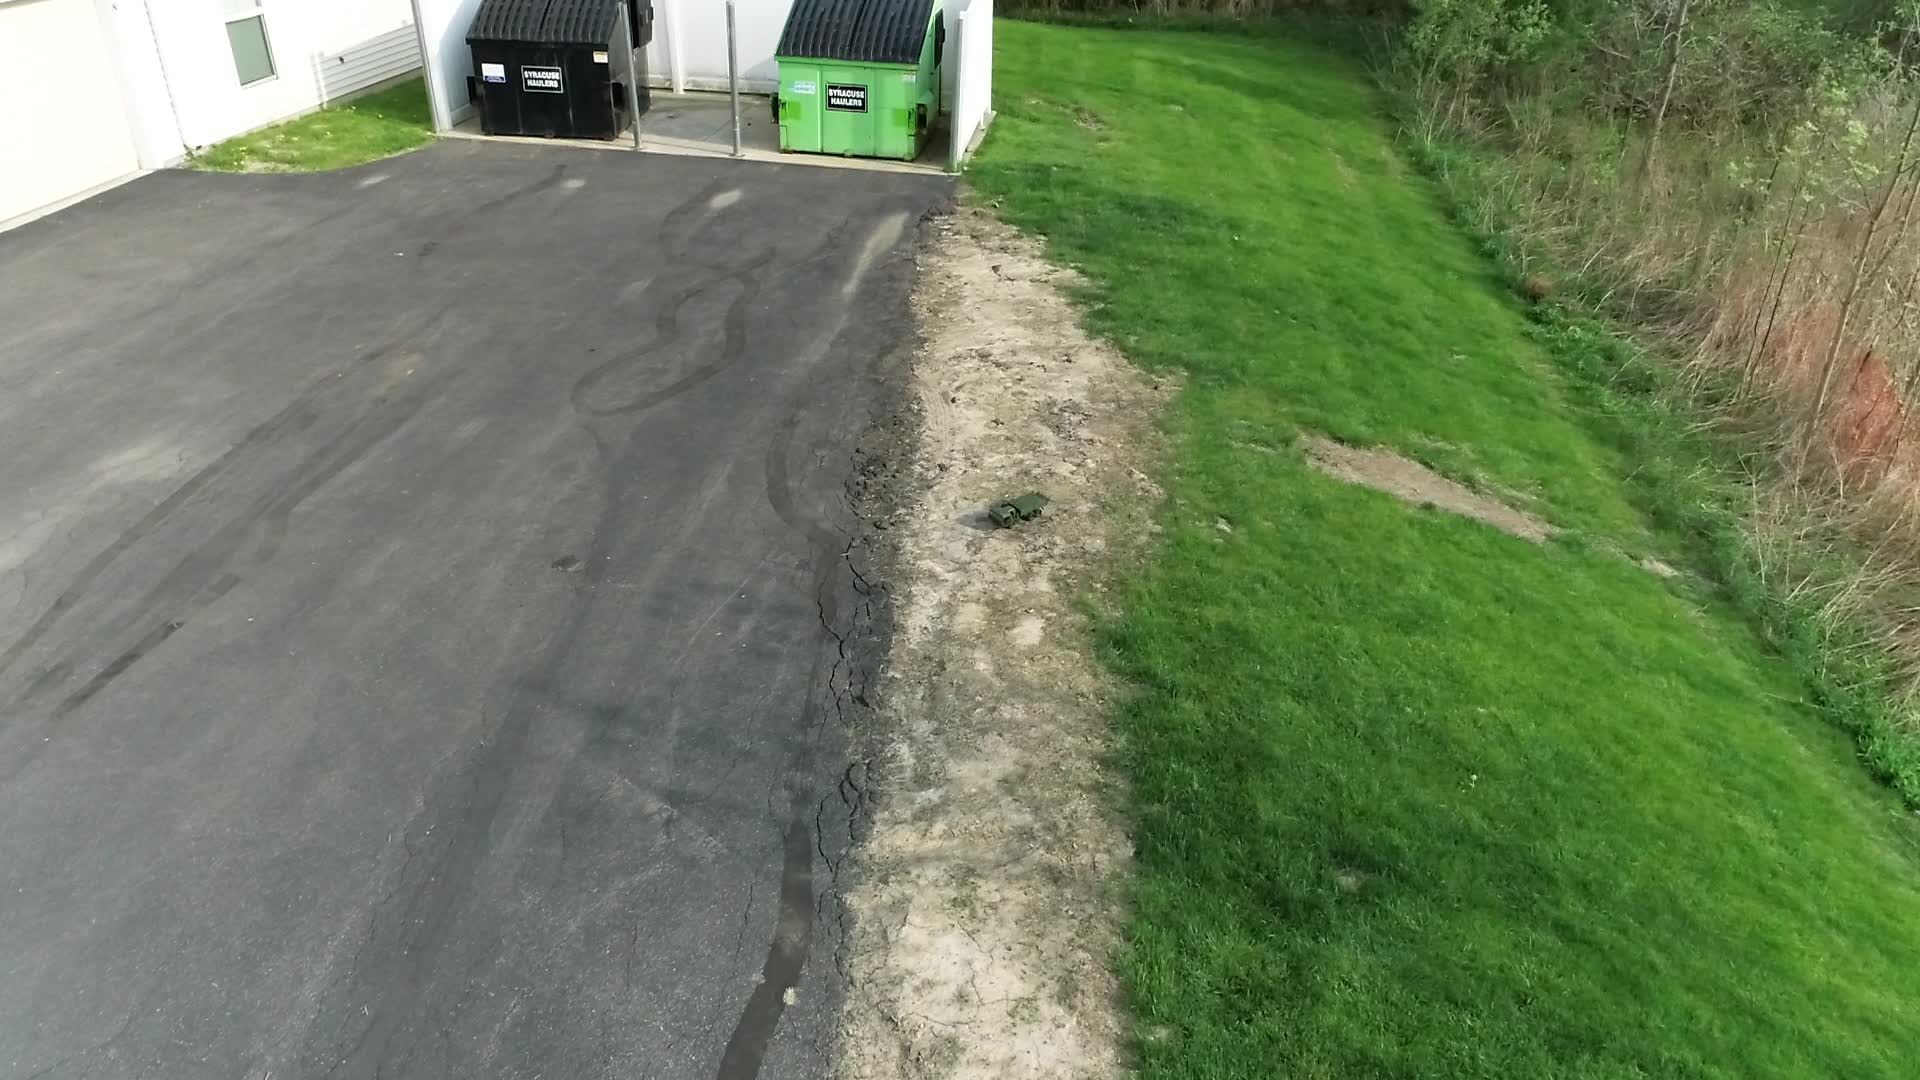transporter9: (982, 491, 1052, 527)
